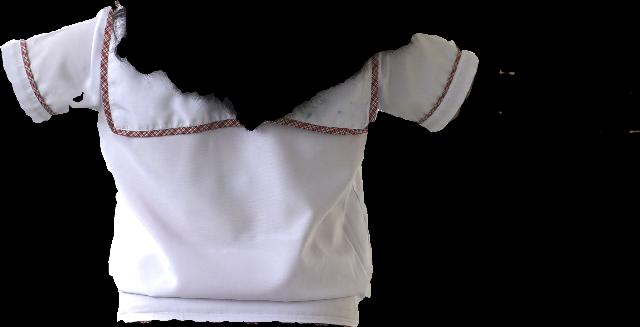pologirl: (0, 1, 478, 326)
